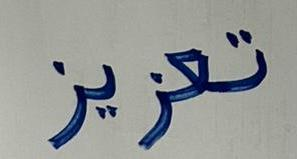ain: (172, 40, 212, 99)
teh: (215, 22, 274, 114)
yeh: (90, 55, 122, 122)
zain: (27, 46, 88, 155), (125, 67, 171, 154)
